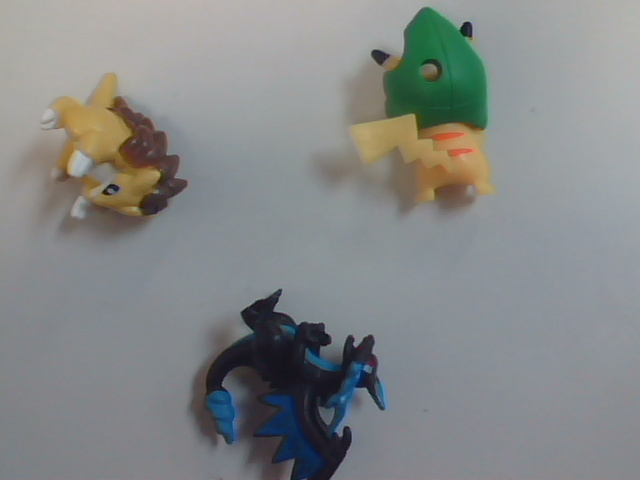charizard: (200, 264, 426, 480)
pikachu: (326, 9, 530, 216)
sandslash: (31, 63, 213, 258)
